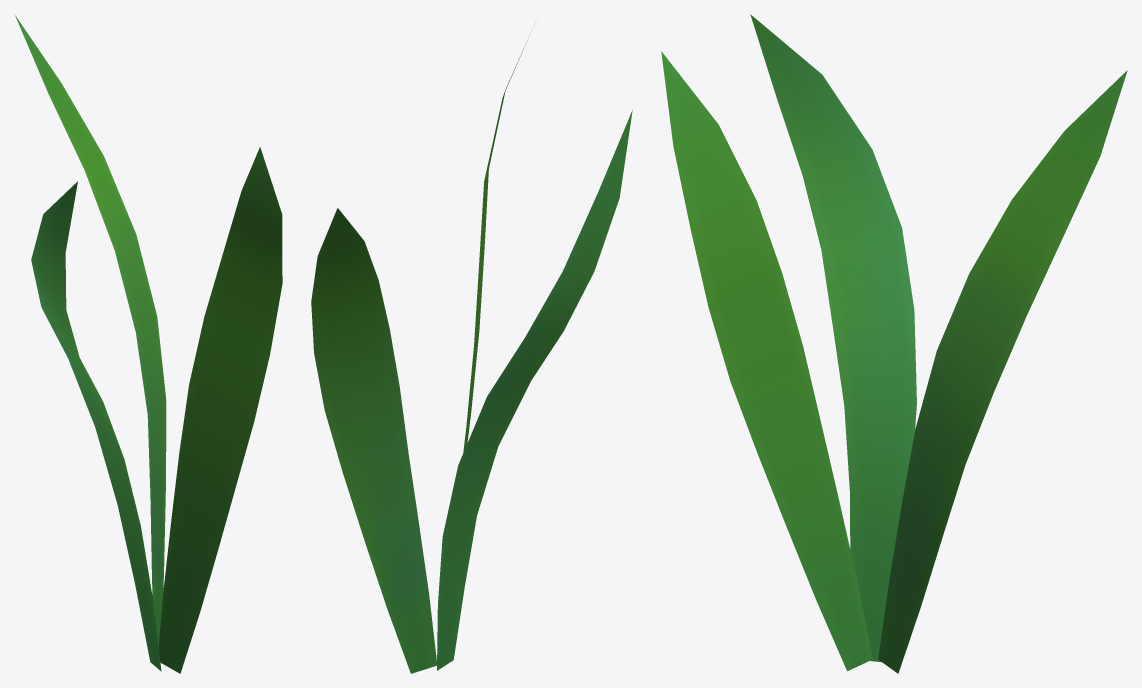
Rendered from env_grass_export_01.fbx.
3 views of the same model, side by side, from view 1: azimuth 30°, elevation 25°; view 2: azimuth 150°, elevation 25°; view 3: azimuth 270°, elevation 25° (orthographic). The views are drawn at different scales.
Visible parts, largest first — view 1: pPlane5, pPlane4, pPlane3; view 2: pPlane4, pPlane3, pPlane5; view 3: pPlane3, pPlane5, pPlane4.
Boxes of the visible parts, x1,y1,x2,y2 form: pPlane5: (158,147,282,673); pPlane4: (15,15,166,645); pPlane3: (31,181,161,671); pPlane4: (311,208,436,673); pPlane3: (437,110,632,670); pPlane5: (463,22,535,452); pPlane3: (750,14,916,662); pPlane5: (661,51,872,671); pPlane4: (878,70,1127,673).
Bounding box in the file's own units: 4.48 × 12.95 × 8.9.
Materials: 3 (3 with a texture image).
